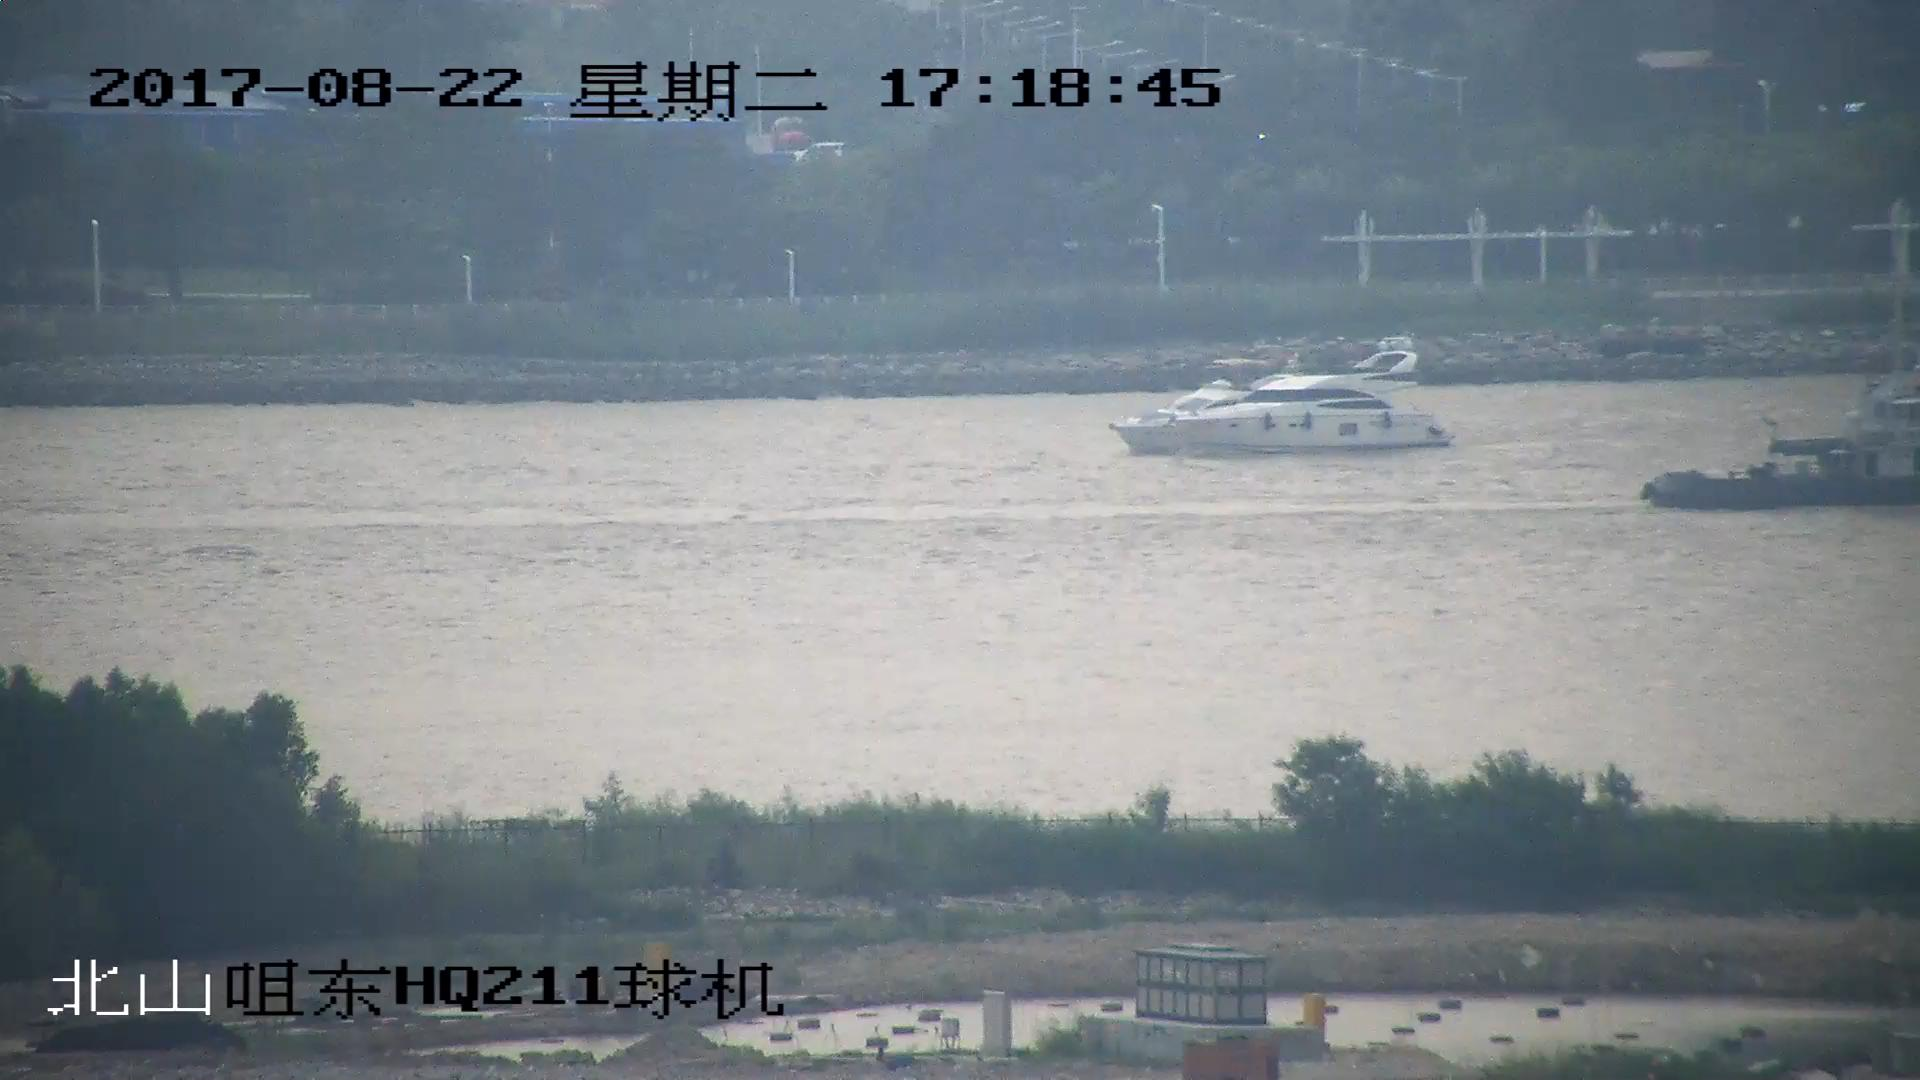passenger ship: (1106, 335, 1454, 451)
